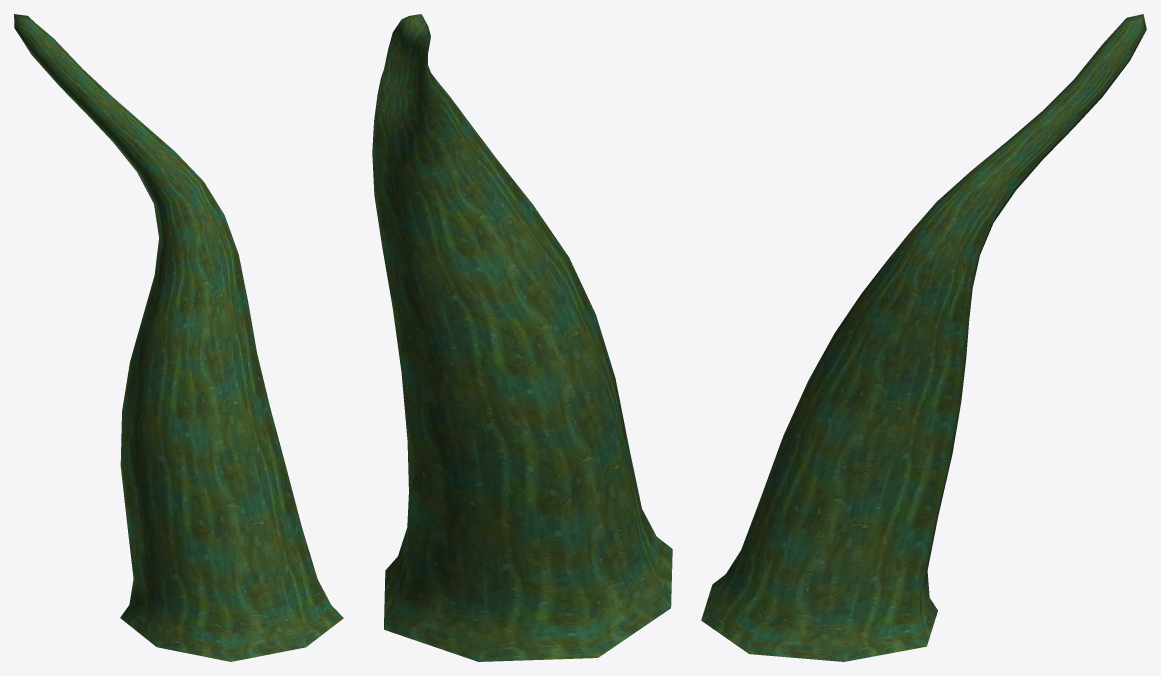
The model's file is MIRKWOOD_MIRK_PLAYSURFACE177.fbx.
The picture shows the model from 3 angles, left to right: view 1: azimuth 30°, elevation 25°; view 2: azimuth 150°, elevation 25°; view 3: azimuth 270°, elevation 25°; orthographic projection. The views are drawn at different scales.
Parts seen in each view (by area): view 1: MIRKWOOD_MIRK_PLAYSURFACE177; view 2: MIRKWOOD_MIRK_PLAYSURFACE177; view 3: MIRKWOOD_MIRK_PLAYSURFACE177.
Boxes of the visible parts, box(x1,y1,x2,y2) form: MIRKWOOD_MIRK_PLAYSURFACE177: box(14, 14, 343, 661); MIRKWOOD_MIRK_PLAYSURFACE177: box(372, 14, 672, 661); MIRKWOOD_MIRK_PLAYSURFACE177: box(701, 14, 1146, 661).
Size of the model in its own units: 66078 by 189376 by 134304.
1 material, 1 textured.
